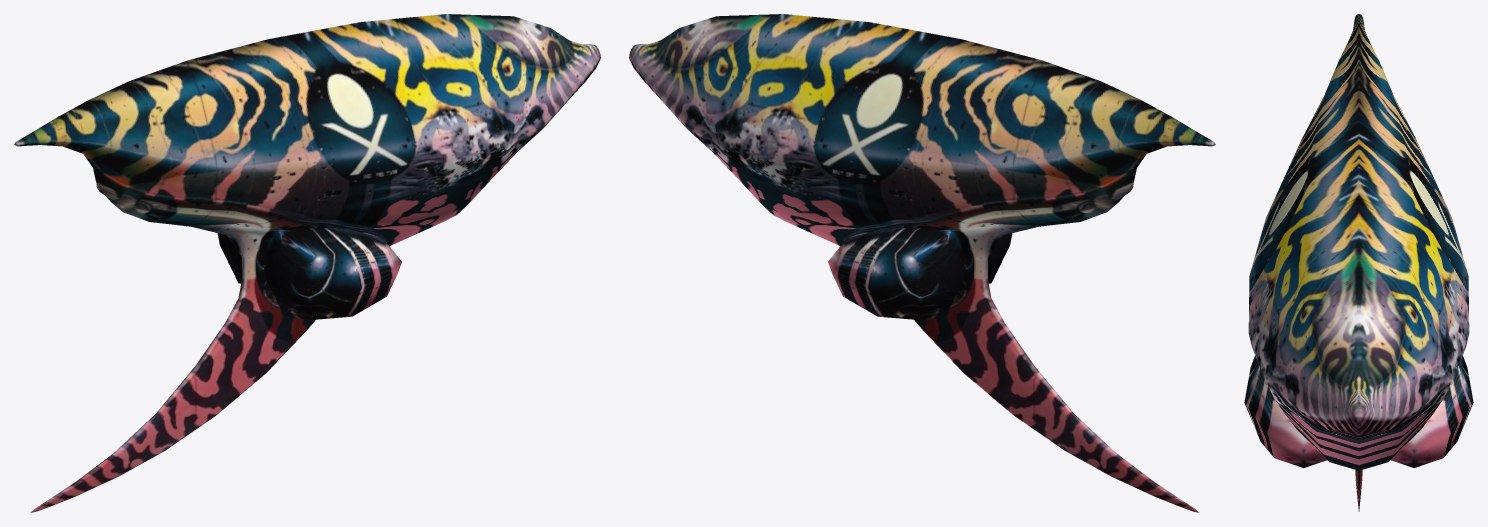
The model's file is ship.glb.
The picture shows the model from 3 angles, left to right: view 1: azimuth 30°, elevation 25°; view 2: azimuth 150°, elevation 25°; view 3: azimuth 270°, elevation 25°; orthographic projection. The views are drawn at different scales.
Visible parts, largest first — view 1: Plane.001; view 2: Plane.001; view 3: Plane.001.
Boxes of the visible parts, left/top/right/bottom form: Plane.001: left=14, top=14, right=600, bottom=512; Plane.001: left=629, top=14, right=1215, bottom=512; Plane.001: left=1244, top=14, right=1473, bottom=511.
Bounding box in the file's own units: 0.1792 × 0.1215 × 0.051.
1 material, 1 textured.
